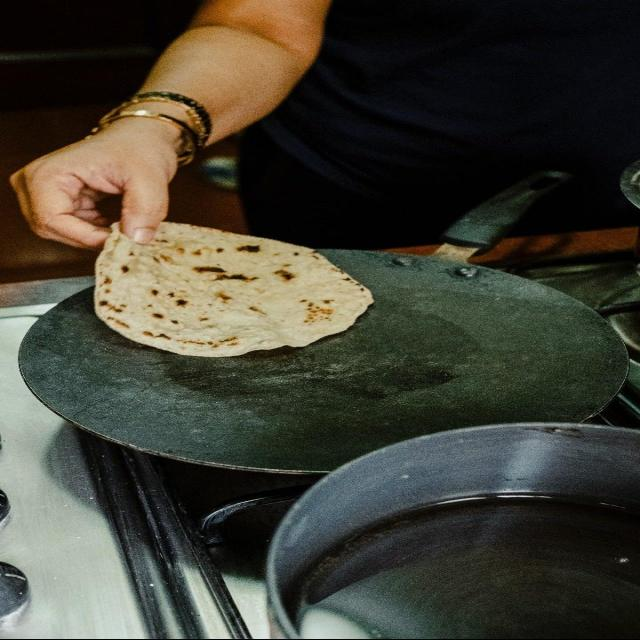ROTI: (97, 226, 382, 358)
